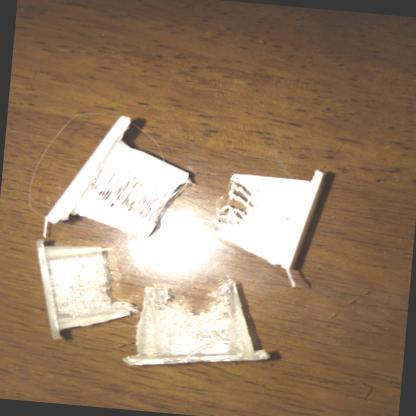fail: (100, 169, 172, 218), (220, 181, 261, 230)
